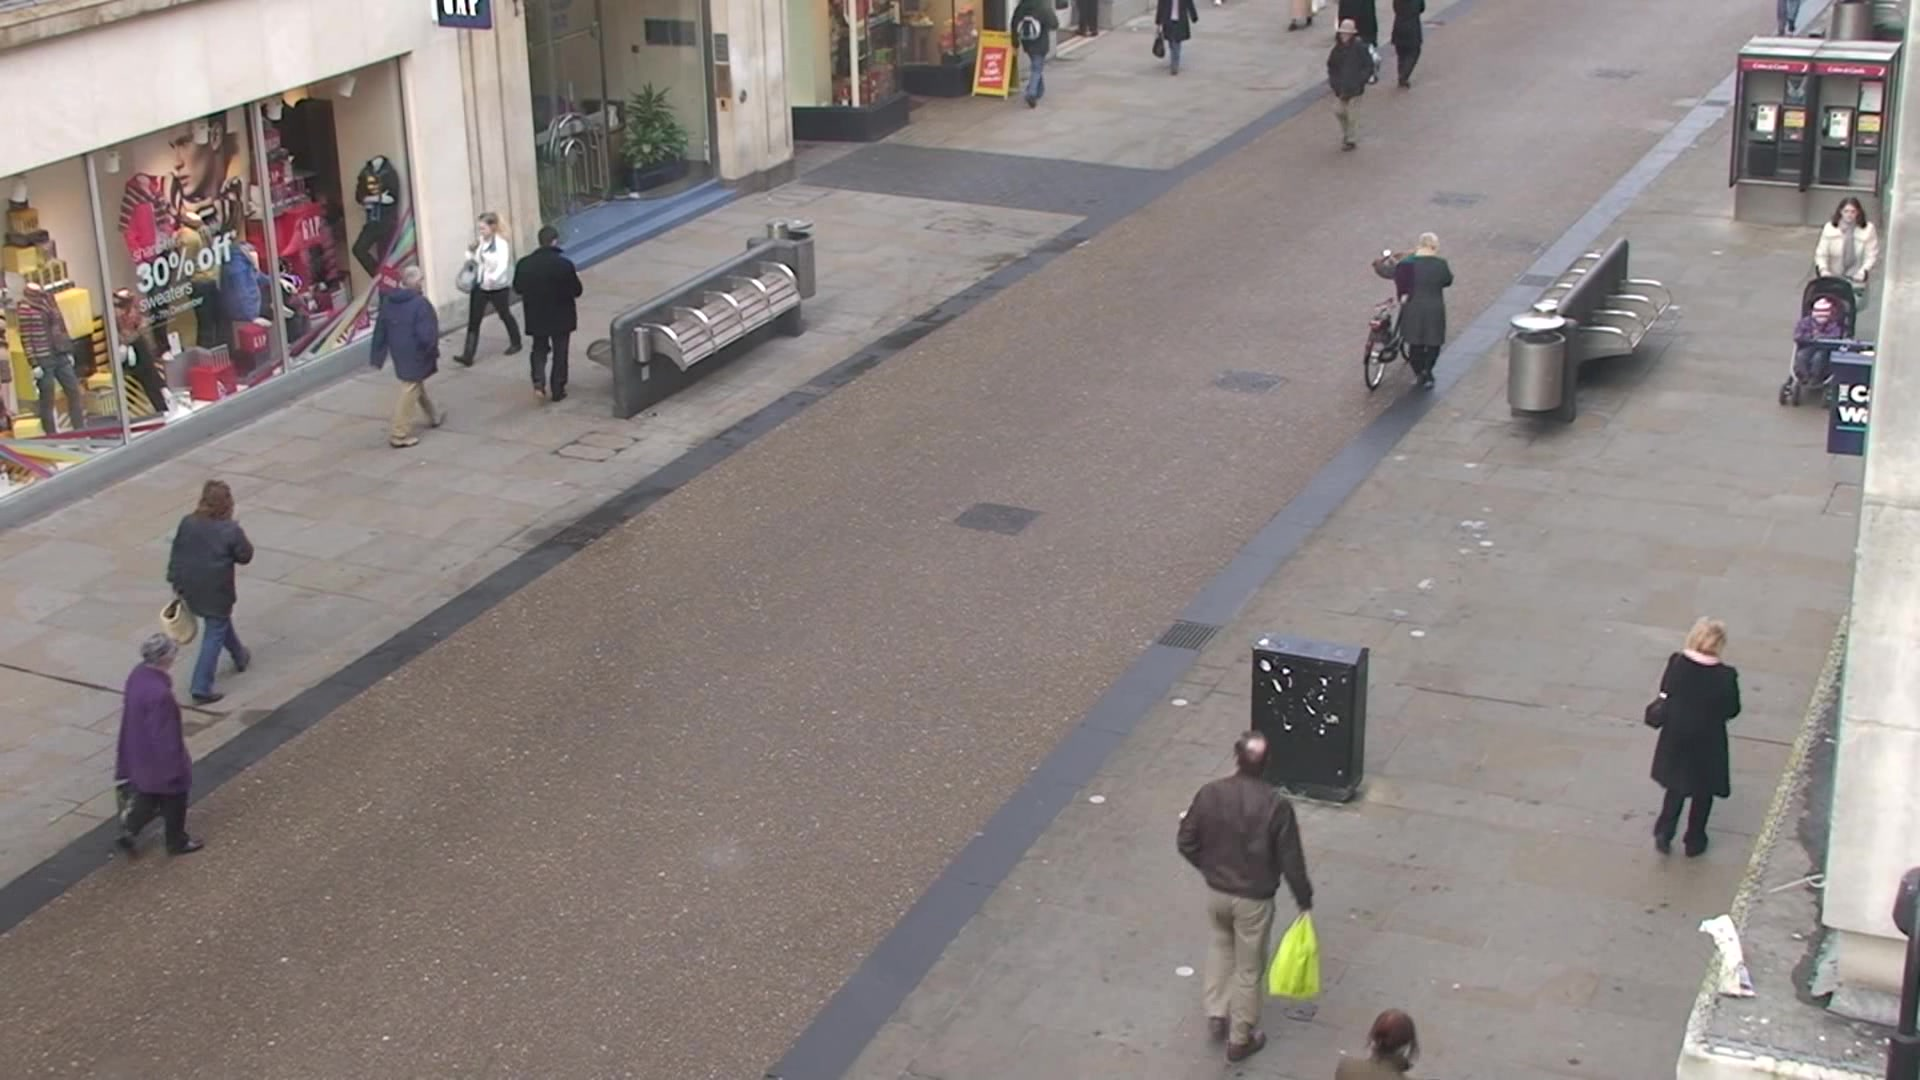person: (1180, 730, 1314, 1066), (1646, 617, 1739, 858), (157, 480, 255, 703), (113, 634, 207, 863), (369, 265, 450, 451), (1368, 231, 1454, 393), (513, 227, 584, 401), (454, 213, 518, 366), (1327, 15, 1378, 154)
